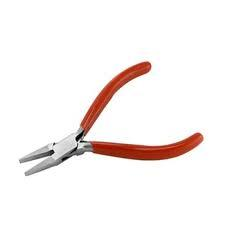pliers: (18, 60, 203, 176)
